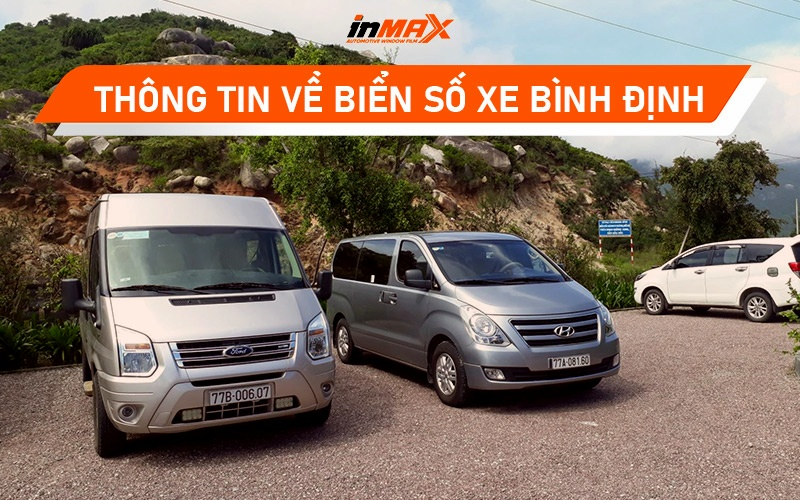Bien-so: (200, 372, 269, 401), (557, 342, 600, 363)
